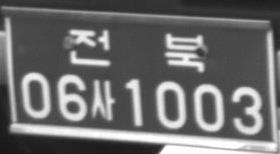0: (192, 82, 225, 132), (155, 80, 187, 130), (20, 70, 52, 118)
1: (122, 77, 149, 126)
3: (230, 85, 263, 134)
6: (56, 72, 88, 121)
사: (90, 79, 115, 121)
전북_D: (69, 28, 205, 73)
